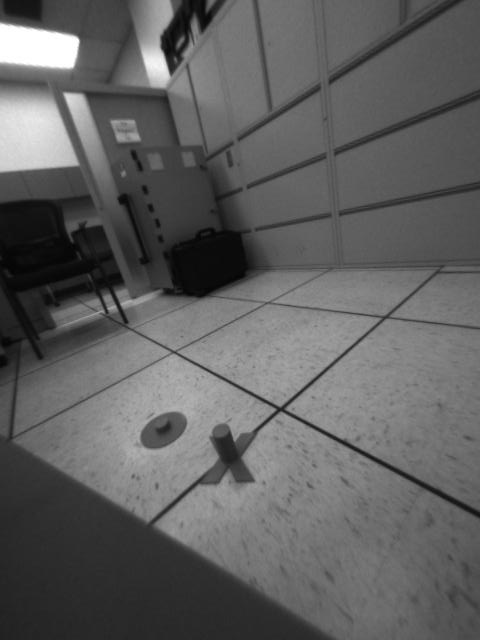X: (201, 423, 257, 485)
